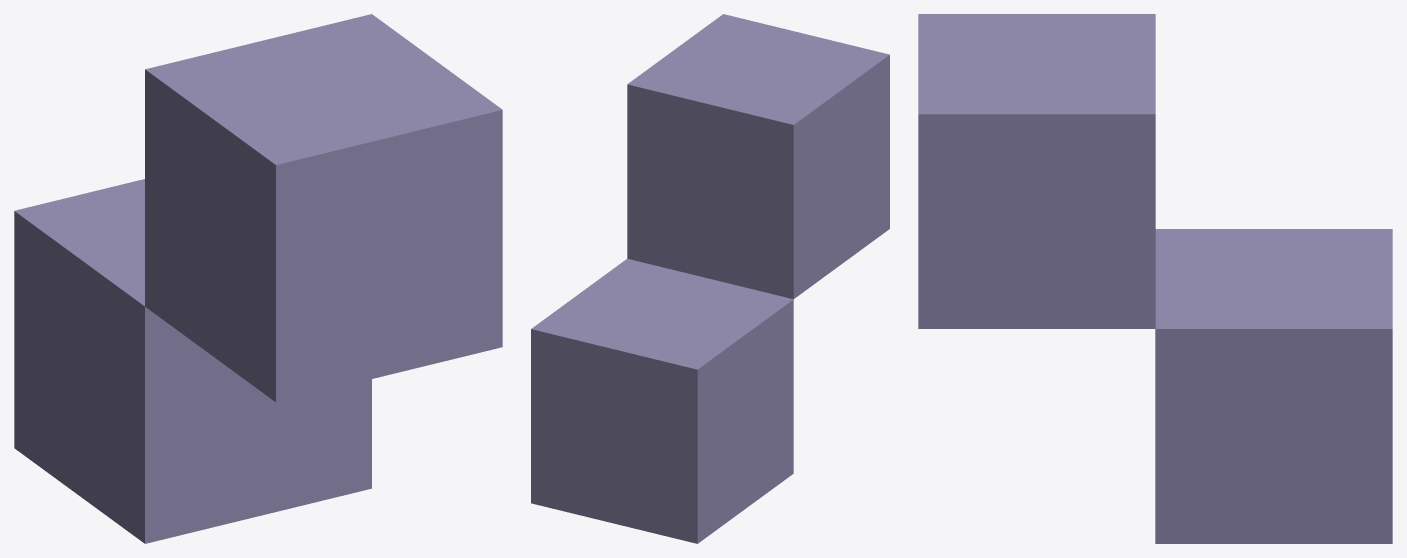
File: can_frosty-0.fbx
The picture shows the model from 3 angles, left to right: view 1: azimuth 30°, elevation 25°; view 2: azimuth 150°, elevation 25°; view 3: azimuth 270°, elevation 25°; orthographic projection. The views are drawn at different scales.
Visible parts, largest first — view 1: can_frosty-0.001; view 2: can_frosty-0.001; view 3: can_frosty-0.001.
Boxes of the visible parts, x1,y1,x2,y2 form: can_frosty-0.001: (14, 14, 502, 543); can_frosty-0.001: (531, 14, 889, 543); can_frosty-0.001: (918, 14, 1392, 543).
Bounding box in the file's own units: 0.1 × 0.2 × 0.2.
1 material, 1 textured.
